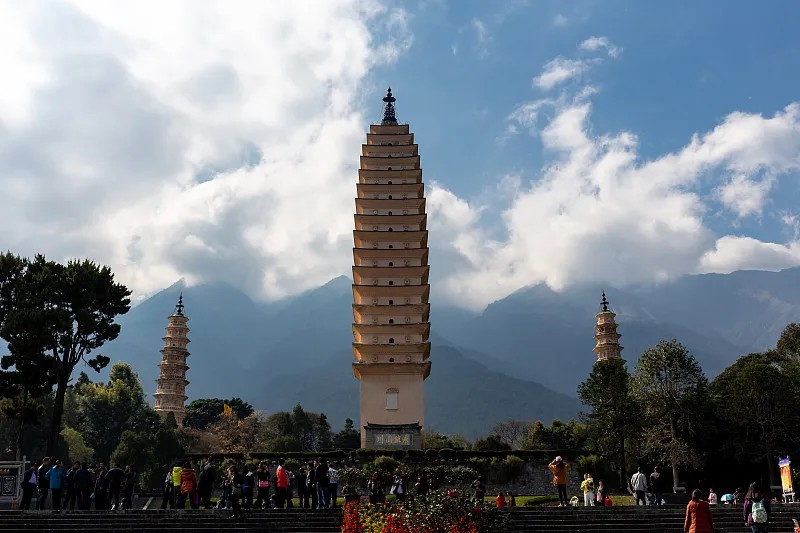ThreePagoda: (353, 86, 432, 450)
